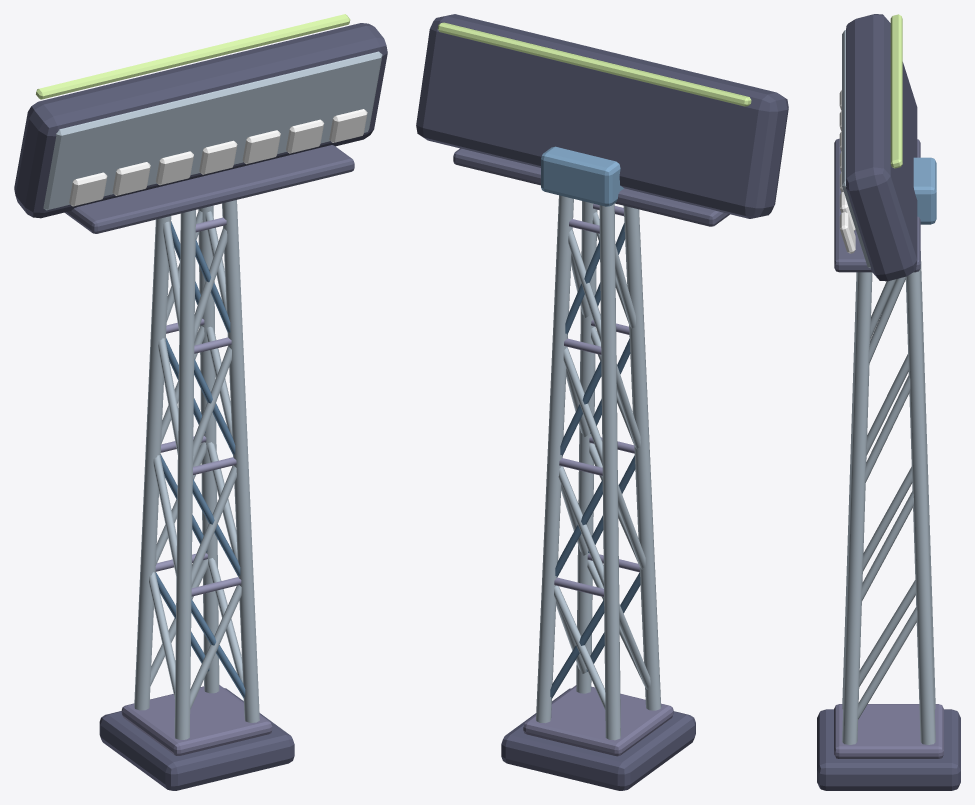
The model's file is lights.fbx.
The picture shows the model from 3 angles, left to right: view 1: azimuth 30°, elevation 25°; view 2: azimuth 150°, elevation 25°; view 3: azimuth 270°, elevation 25°; orthographic projection. The views are drawn at different scales.
Parts seen in each view (by area): view 1: lights; view 2: lights; view 3: lights.
Part boxes in pixels (x1=…): lights: x1=14, y1=14, x2=387, y2=790; lights: x1=416, y1=14, x2=788, y2=790; lights: x1=817, y1=14, x2=960, y2=790.
Bounding box in the file's own units: 6.1 × 11.7 × 2.25.
